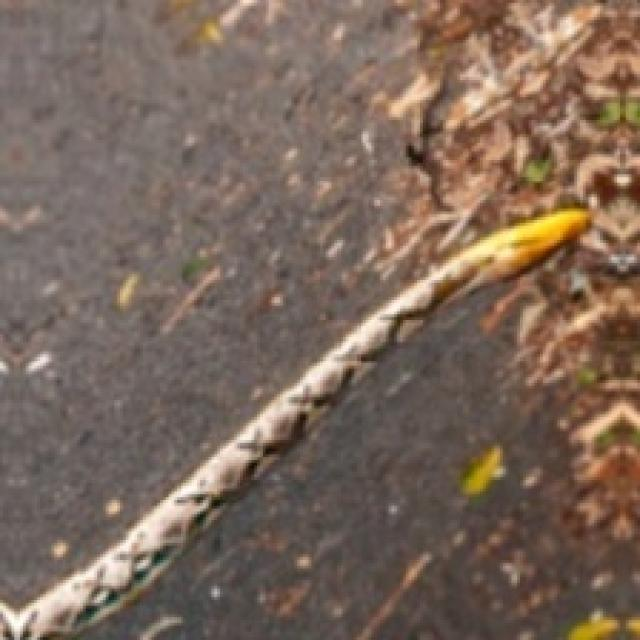reticulated python: (0, 209, 589, 637)
